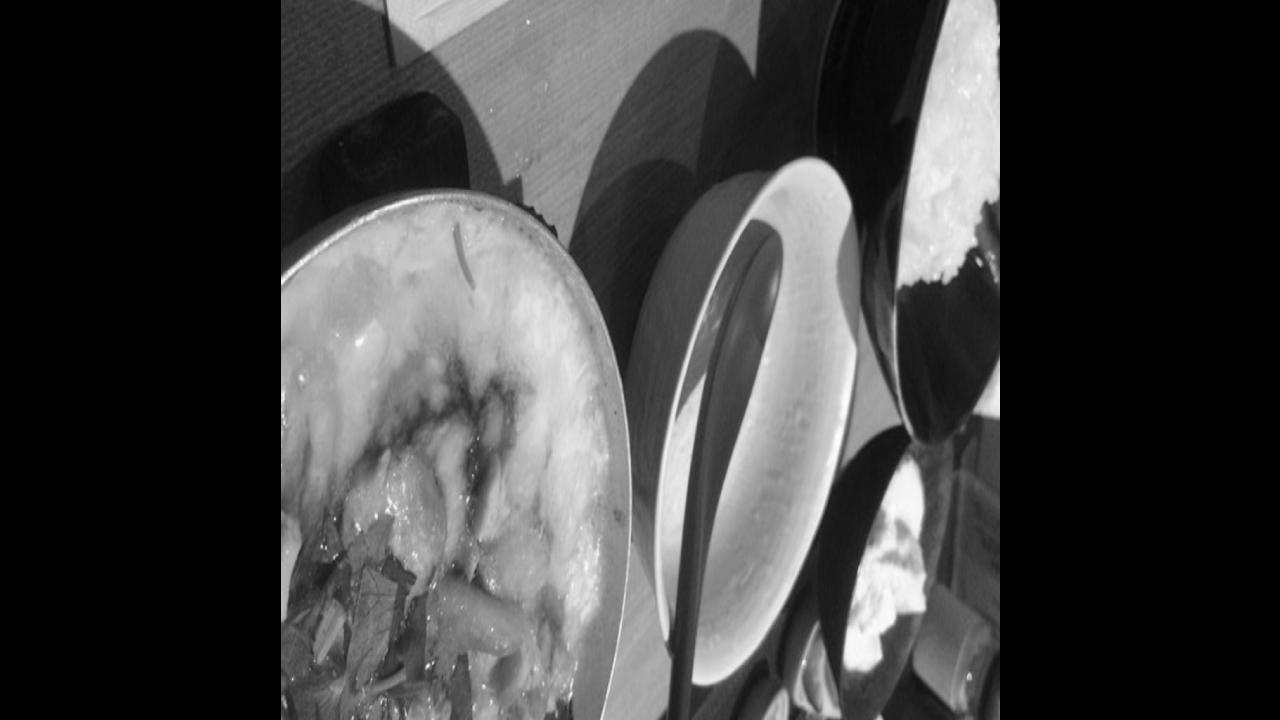chopstick: (389, 0, 930, 75)
